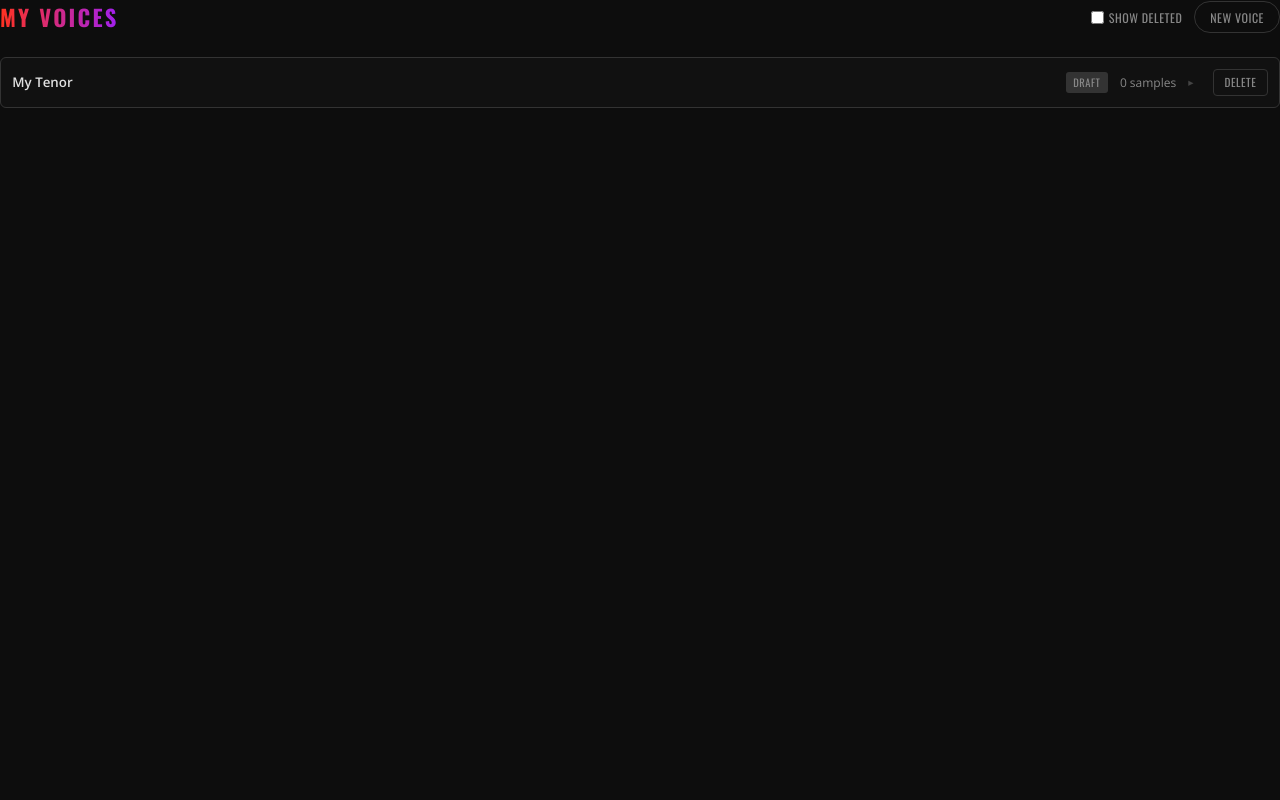
Test: voices page › shows the copied take metadata after the voice refreshes
Click the button with class "lora-row" at (42, 82), box [12,72,1206,92]
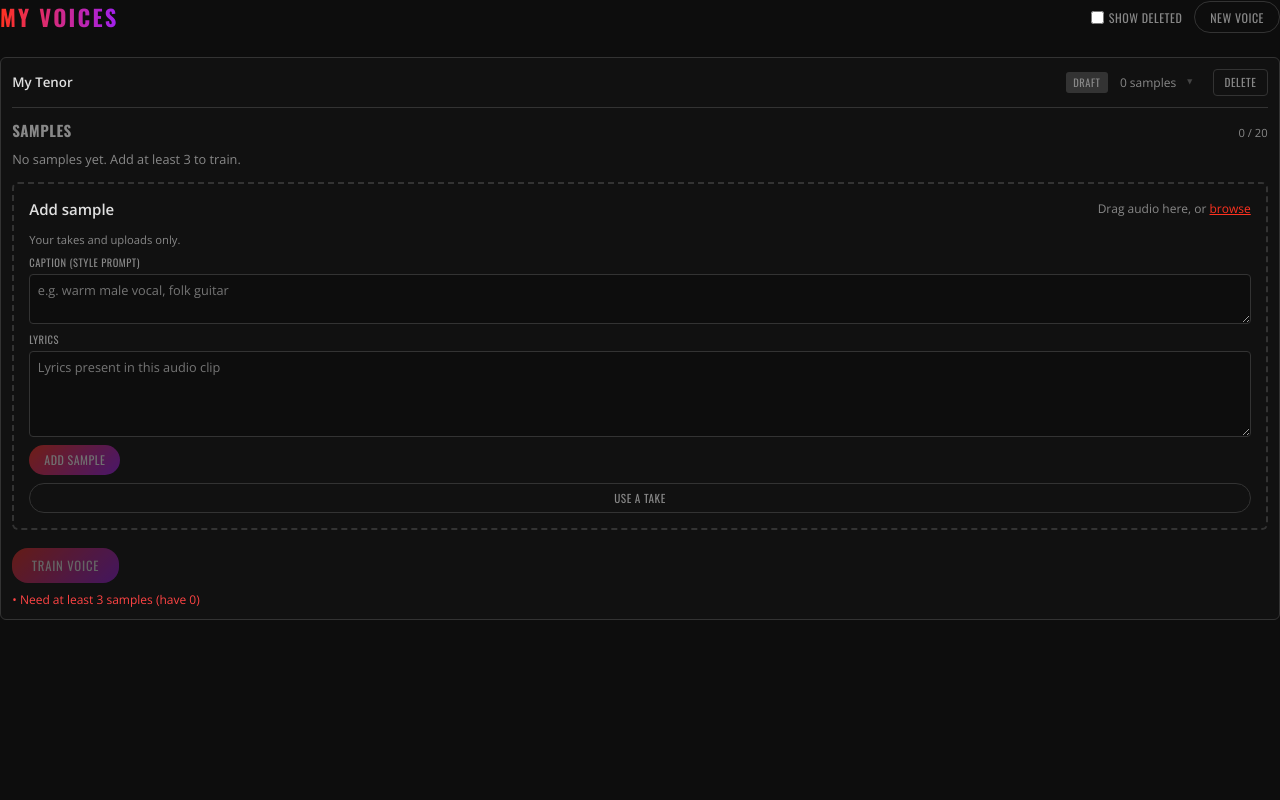
Click the button with class "own-takes-toggle" at (640, 498), box [29,482,1251,512]
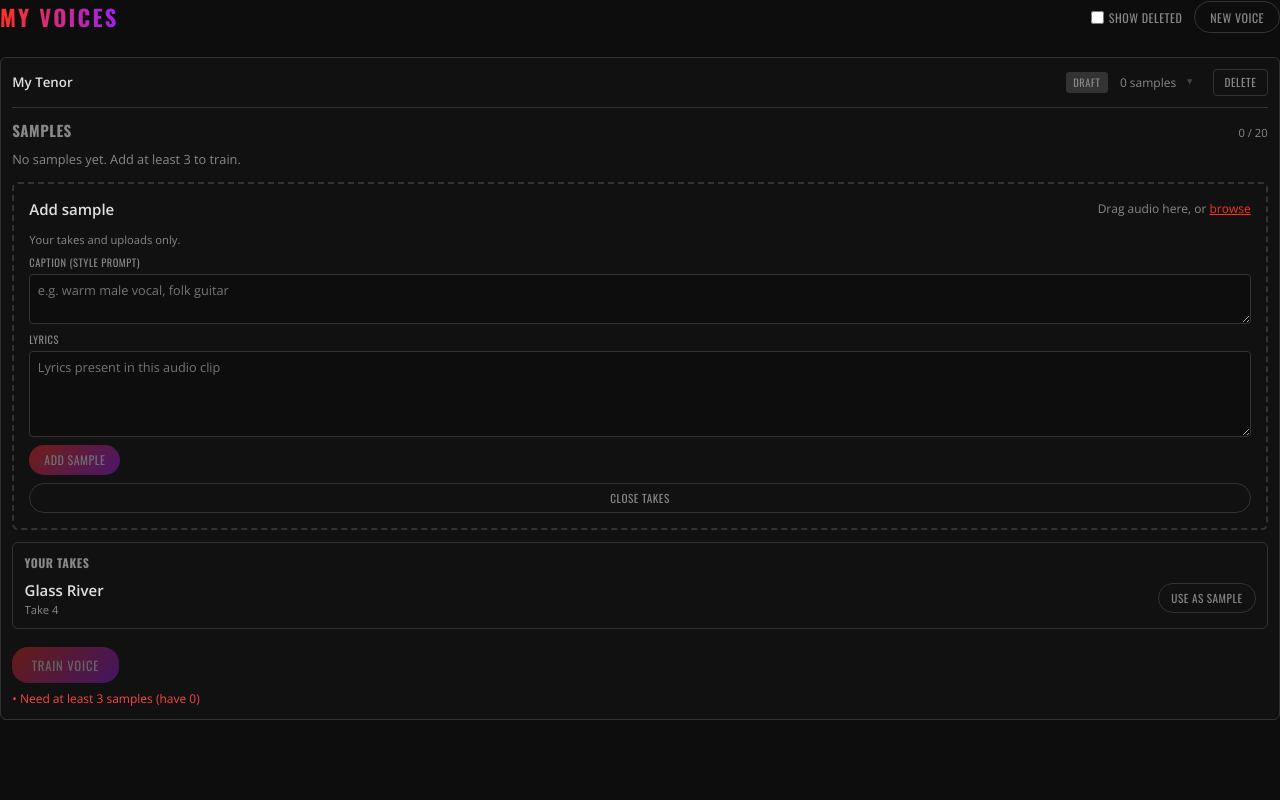
Expected: the text "Glass River" is shown, [24,580,104,600]
Click the button with class "use-take-btn" at (1207, 598), box [1158,583,1256,613]
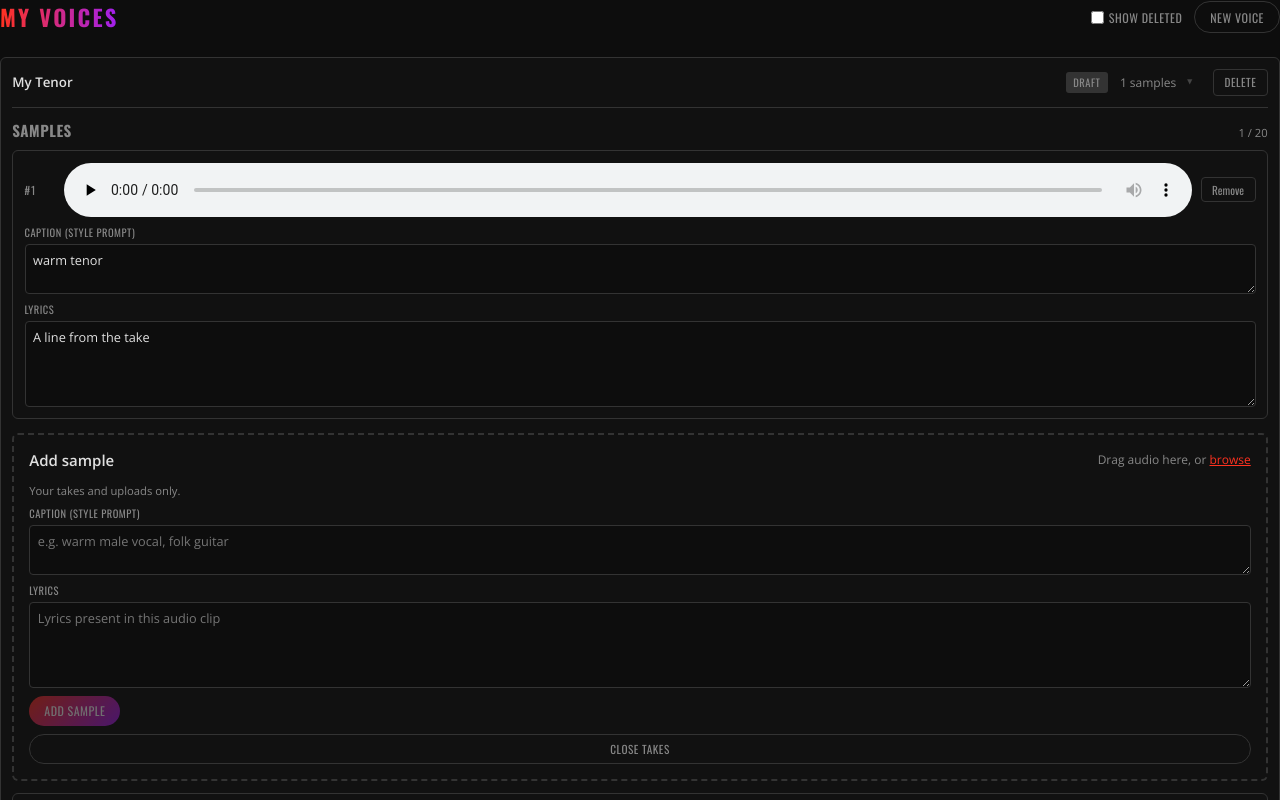
Expected: the text box labelled "Caption (style prompt)" below "#1" holds "warm tenor", [24,244,1256,294]
Expected: the text box labelled "Lyrics" below "#1" holds "A line from the take", [24,321,1256,407]
